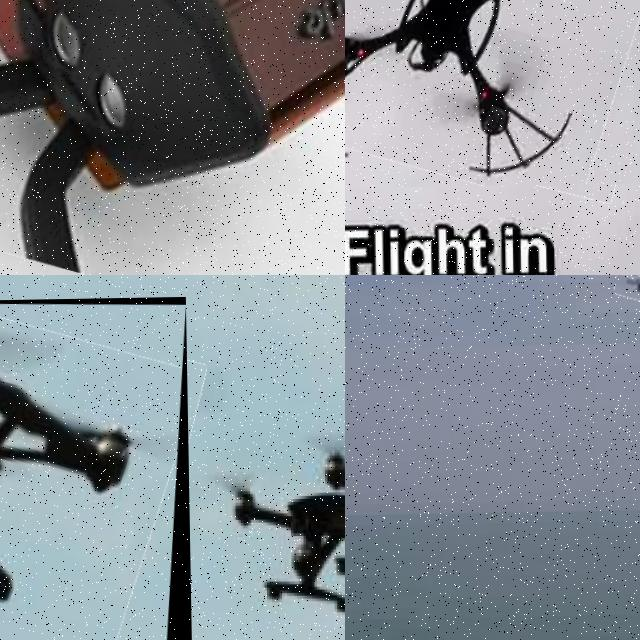drone: (0, 0, 345, 275), (0, 296, 192, 640), (345, 0, 640, 189), (614, 275, 640, 302)
